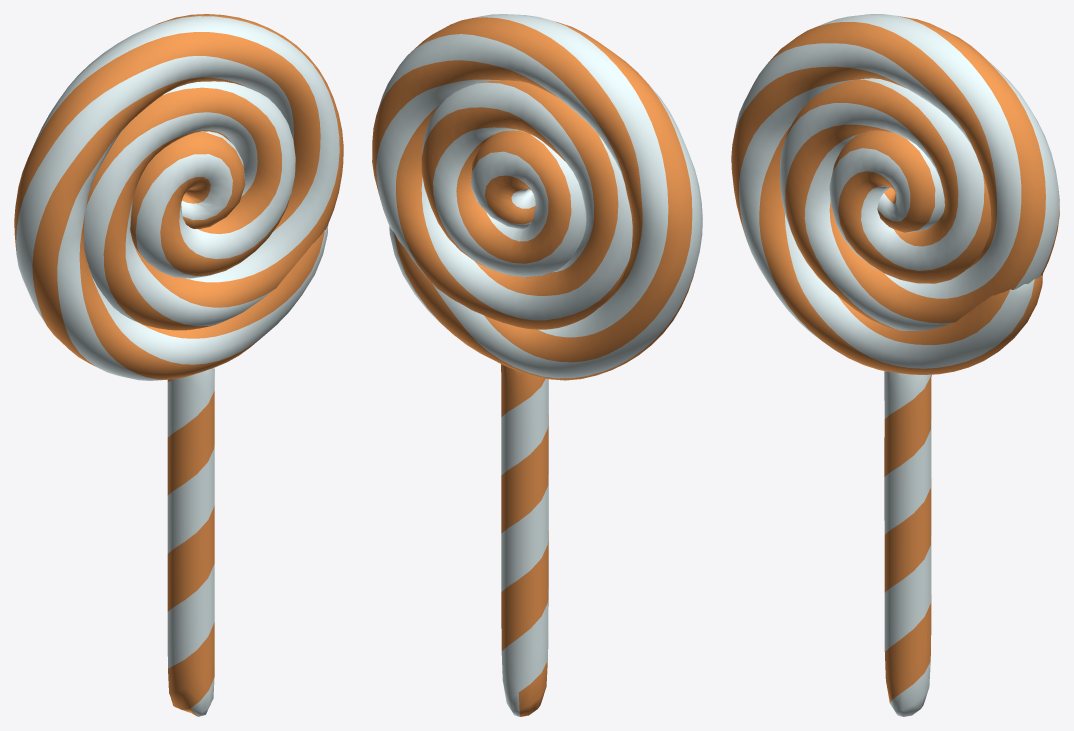
Rendered from Lolly_A_01.fbx.
3 renders of one model, left to right at view 1: azimuth 30°, elevation 25°; view 2: azimuth 150°, elevation 25°; view 3: azimuth 330°, elevation 25°, orthographic.
Visible parts, largest first — view 1: Lolly_A_01_LOD0; view 2: Lolly_A_01_LOD0; view 3: Lolly_A_01_LOD0.
Part boxes in pixels (bbox=[...]): Lolly_A_01_LOD0: bbox=[14, 14, 343, 716]; Lolly_A_01_LOD0: bbox=[372, 14, 702, 716]; Lolly_A_01_LOD0: bbox=[731, 14, 1059, 716].
Size of what is drawn, in the model's own units: 568 by 1185 by 129.
